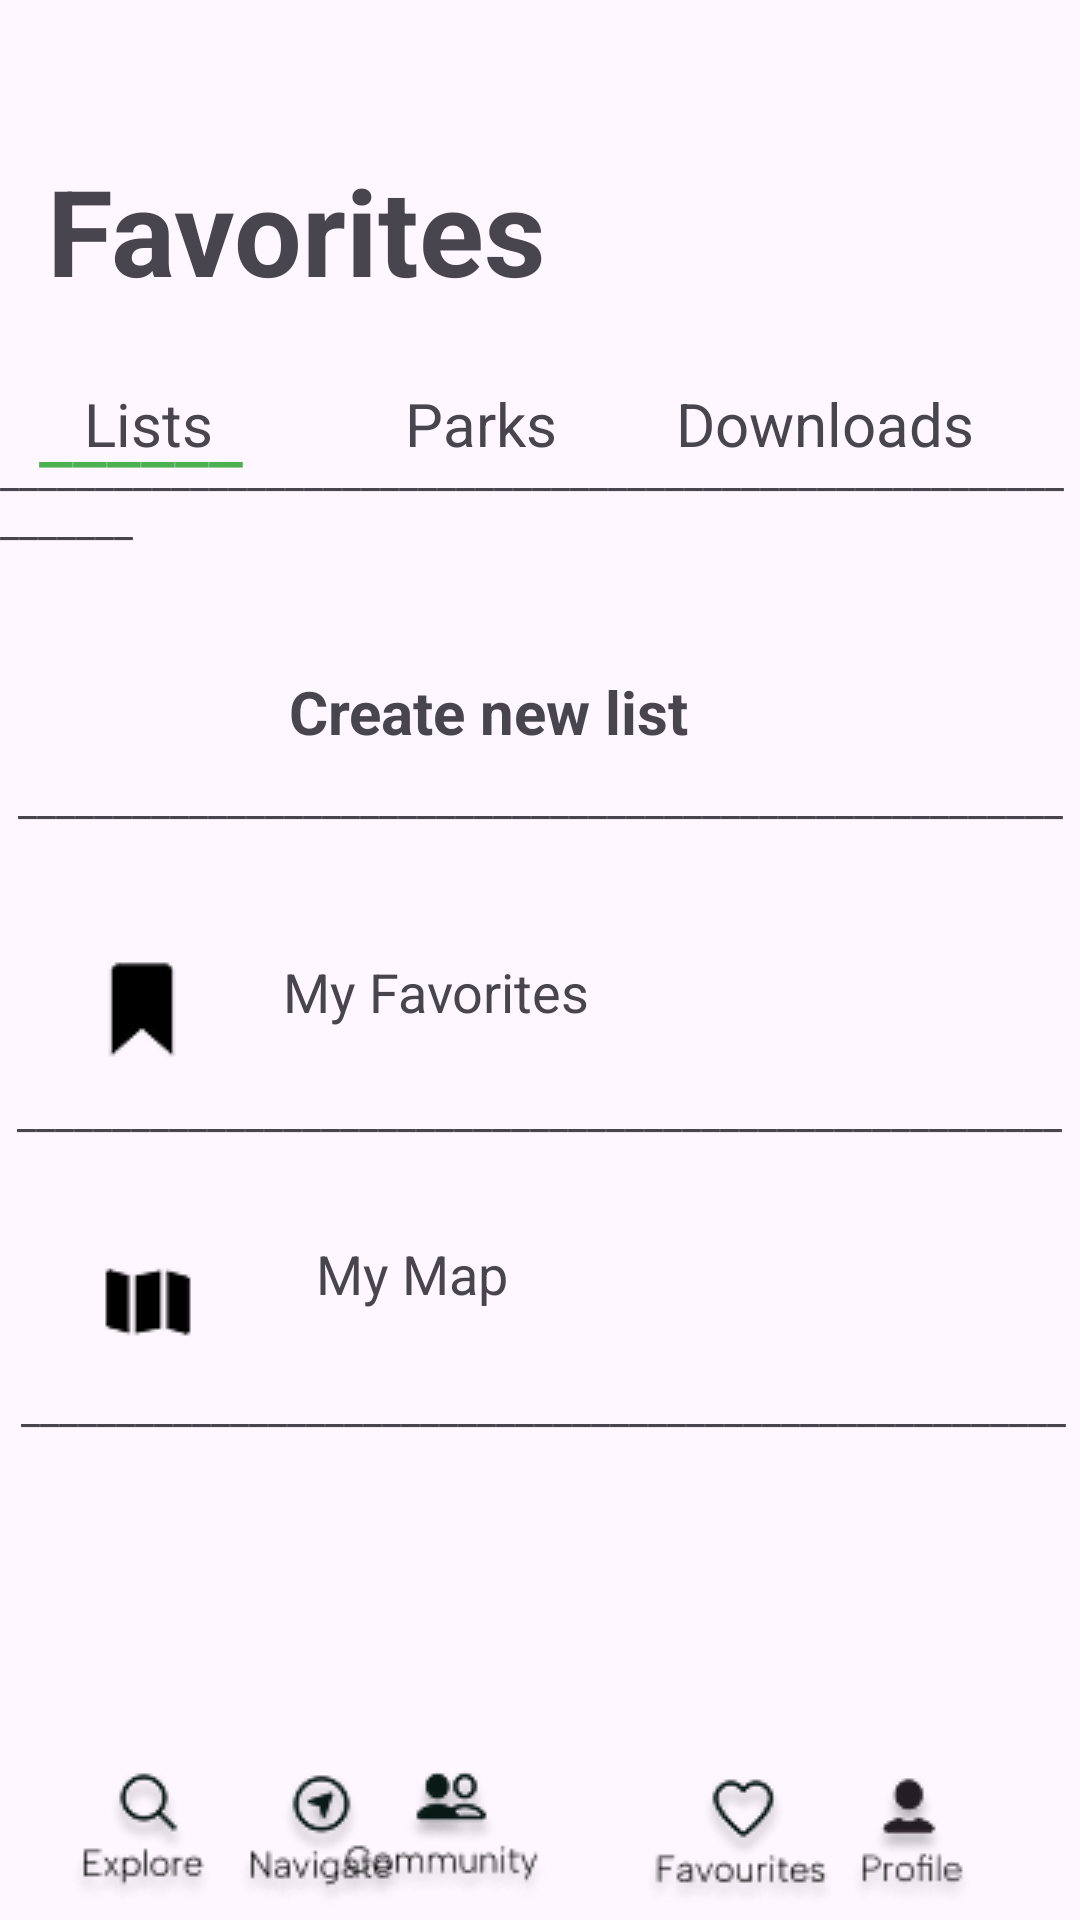

Icons on this 1080px×1920px Android screen, each with the point to tap as (x,y):
bookmark: (142,1009)
